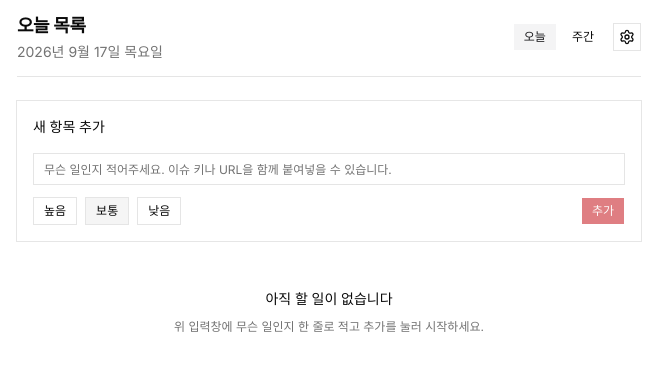
it: 한 줄 설명을 적어 추가하면 목록에 즉시 나타난다
Type "GENSIX-1 로그인 버그 수정" into the field with placeholder "무슨 일인지 적어주세요. 이슈 키나 URL을 함께 붙여넣을 수 있습니다." at [329, 169], box x1=33 y1=153 x2=625 y2=185
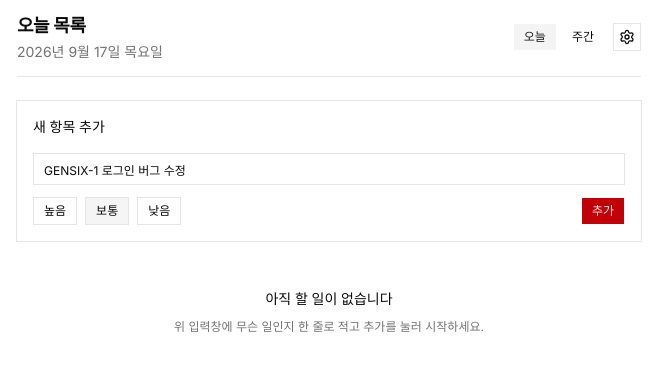
Click the button "추가" at [603, 211], box x1=581 y1=197 x2=625 y2=225
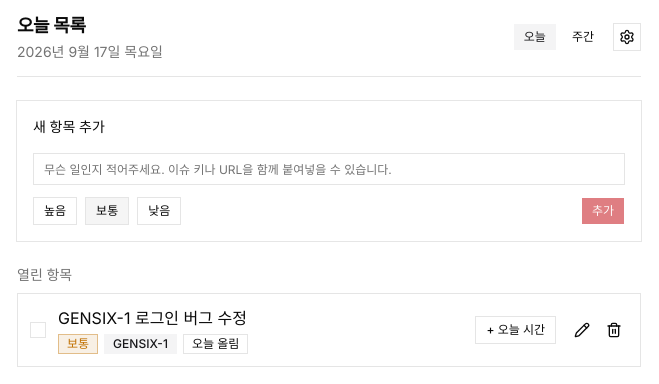
Expected: the text "GENSIX-1 로그인 버그 수정" is shown, x1=58 y1=308 x2=247 y2=328
Expected: the link "GENSIX-1" is shown, x1=104 y1=334 x2=177 y2=354
